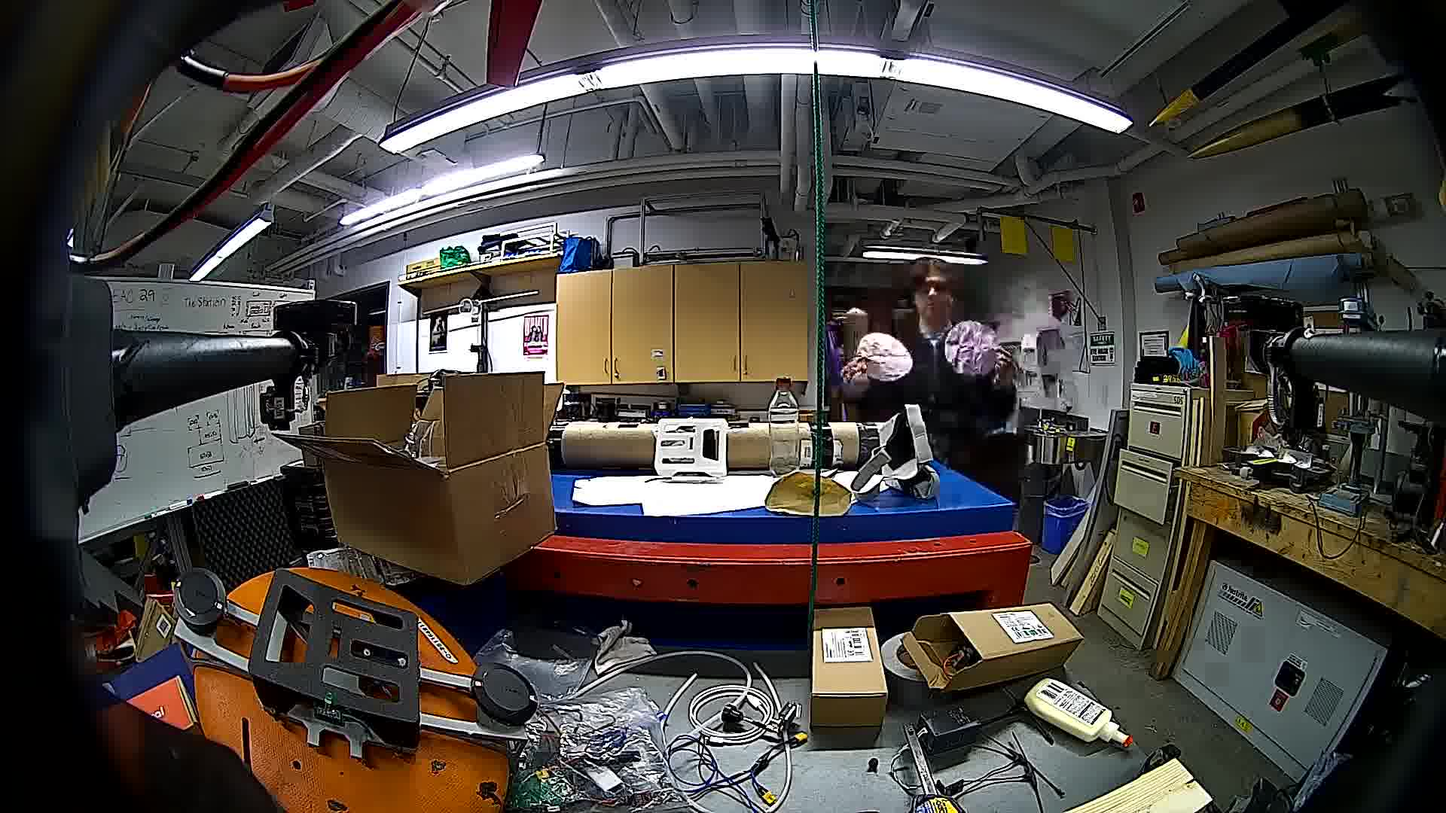Target: (944, 318, 997, 378), (855, 330, 912, 380)
